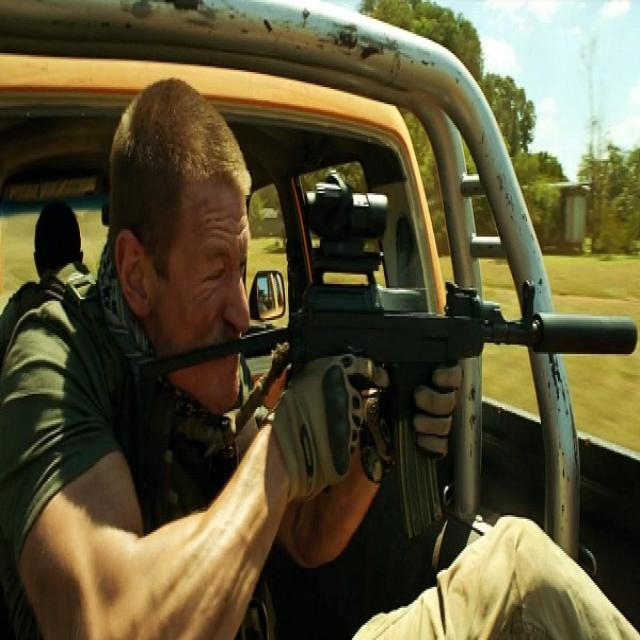rifle: (114, 186, 640, 536)
